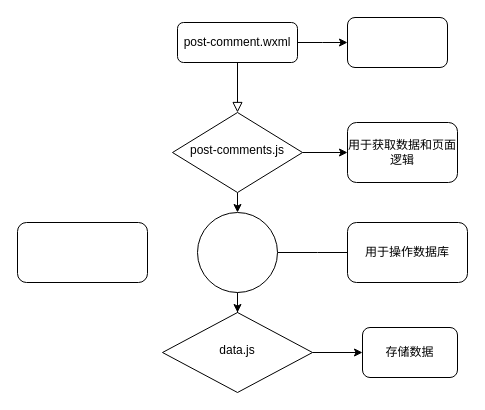
This 485x410 diagram has some shape labels left out. Here are the shapes that lost their labels. From the top down, the centre of each, then its label:
At (x=397, y=42): "评论页面：用于显示数据".
At (x=82, y=252): "util.js 用于处理时间 根据客户端的信息得到发表评论的时间格式".
At (x=237, y=252): "DPpost.js".
